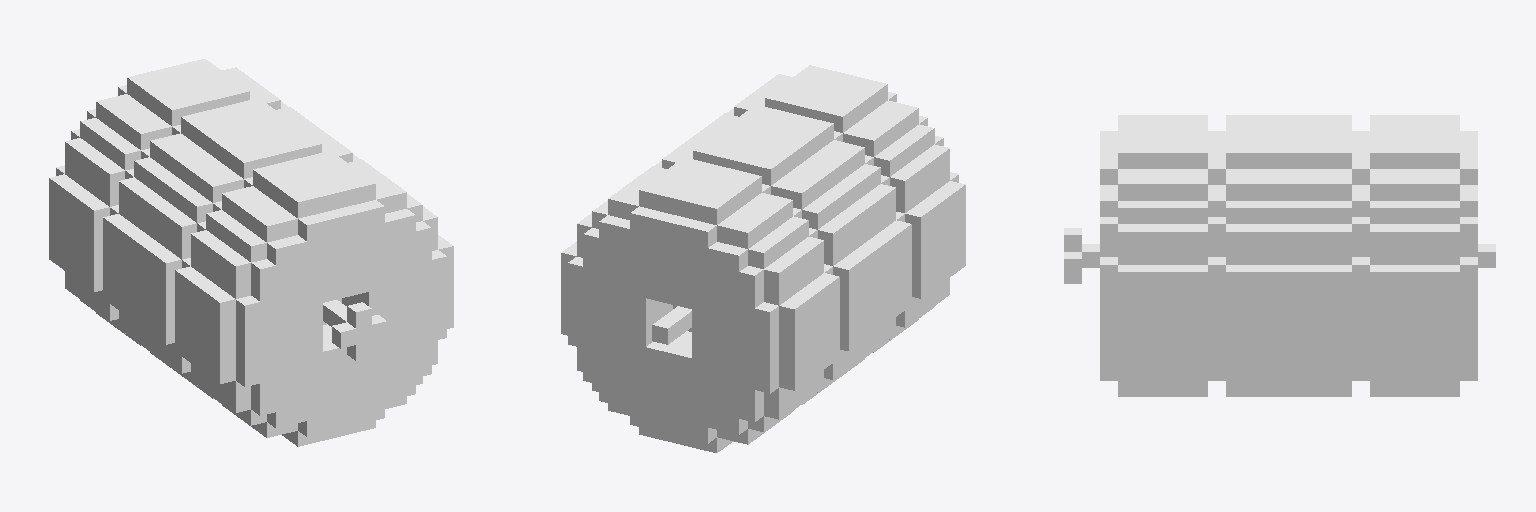
Rendered from obj.buoy.obj.
3 views of the same model, side by side, from view 1: azimuth 30°, elevation 25°; view 2: azimuth 150°, elevation 25°; view 3: azimuth 270°, elevation 25° (orthographic).
Visible parts, largest first — view 1: object 1; view 2: object 1; view 3: object 1.
Part boxes in pixels (bbox=[...]): object 1: bbox=[49, 59, 453, 446]; object 1: bbox=[561, 65, 965, 452]; object 1: bbox=[1064, 115, 1495, 396].
Size of the model in its own units: 1.5 by 1.5 by 2.4.